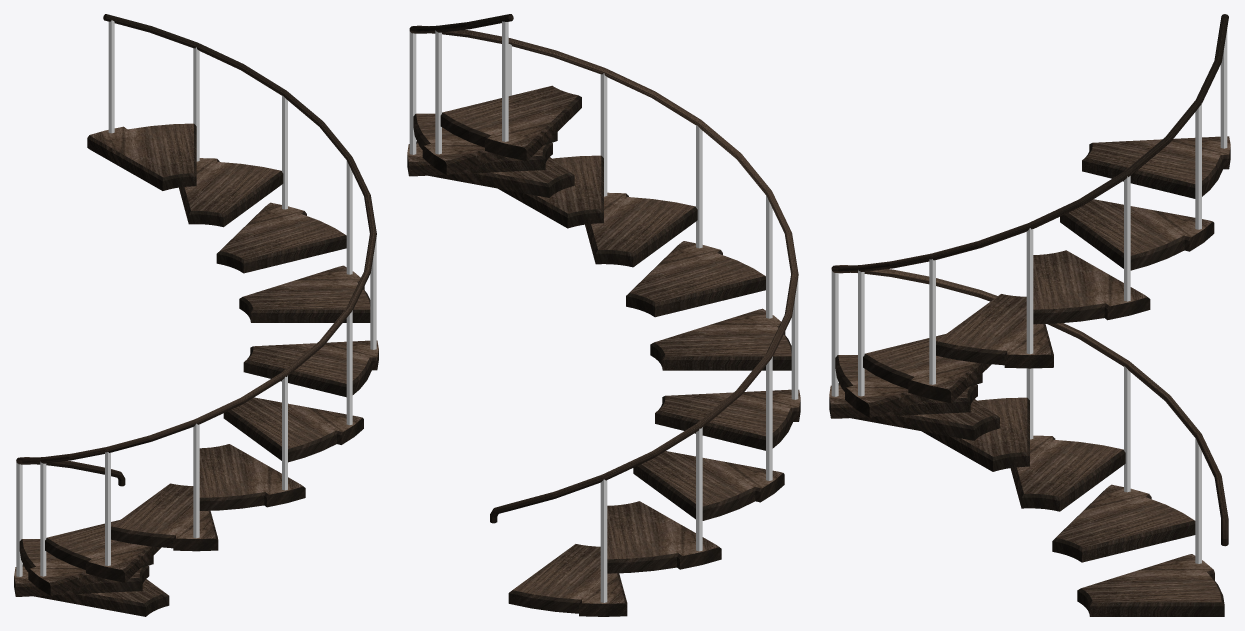
File: stepenice2.fbx
3 renders of one model, left to right at view 1: azimuth 30°, elevation 25°; view 2: azimuth 150°, elevation 25°; view 3: azimuth 270°, elevation 25°, orthographic. The views are drawn at different scales.
Visible parts, largest first — view 1: Circle, Plane, Plane.002; view 2: Circle, Plane, Plane.002; view 3: Circle, Plane, Plane.002.
Boxes of the visible parts, <box> form: Circle: <box>14,123,378,616</box>; Plane: <box>16,20,376,576</box>; Plane.002: <box>16,14,376,486</box>; Circle: <box>407,85,800,616</box>; Plane: <box>409,21,798,602</box>; Plane.002: <box>409,14,798,523</box>; Circle: <box>829,136,1230,616</box>; Plane: <box>831,29,1227,563</box>; Plane.002: <box>831,14,1228,546</box>.
Size of the model in its own units: 150 by 150 by 248.
